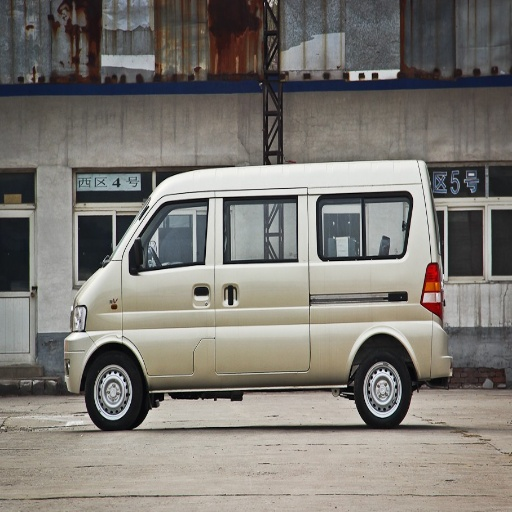back_left_door: (218, 194, 288, 371)
trunk: (238, 283, 436, 384)
